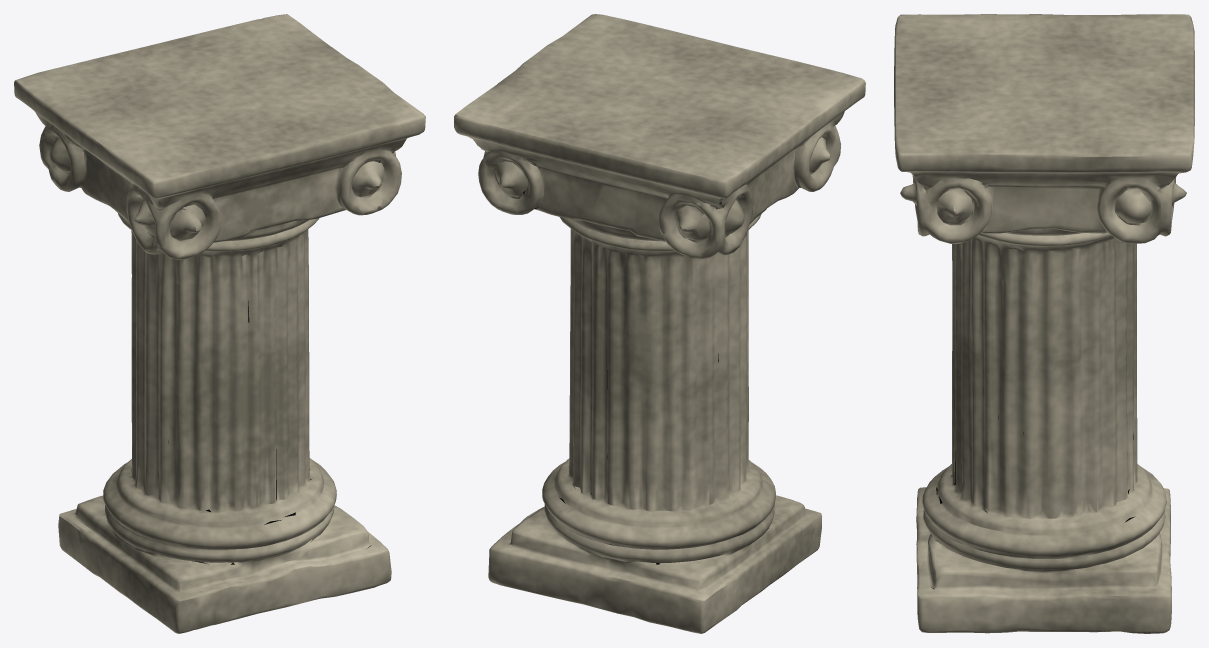
Rendered from broken-column-v001.glb.
3 views of the same model, side by side, from view 1: azimuth 30°, elevation 25°; view 2: azimuth 150°, elevation 25°; view 3: azimuth 270°, elevation 25° (orthographic). The views are drawn at different scales.
Parts seen in each view (by area): view 1: broken-column; view 2: broken-column; view 3: broken-column.
Part boxes in pixels (x1,y1,x2,y2): broken-column: (14, 14, 425, 633); broken-column: (454, 14, 865, 633); broken-column: (894, 14, 1194, 633).
Bounding box in the file's own units: 0.7345 × 1.2 × 0.6607.
Materials: 1 (1 with a texture image).
